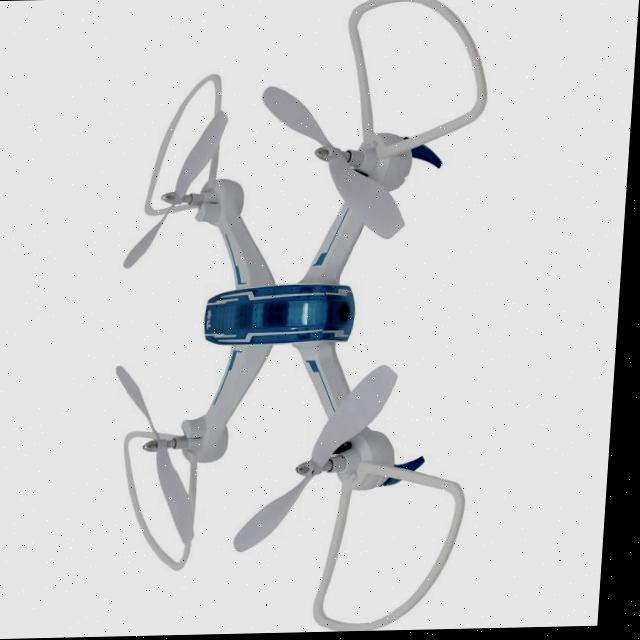drone: (96, 0, 529, 620)
